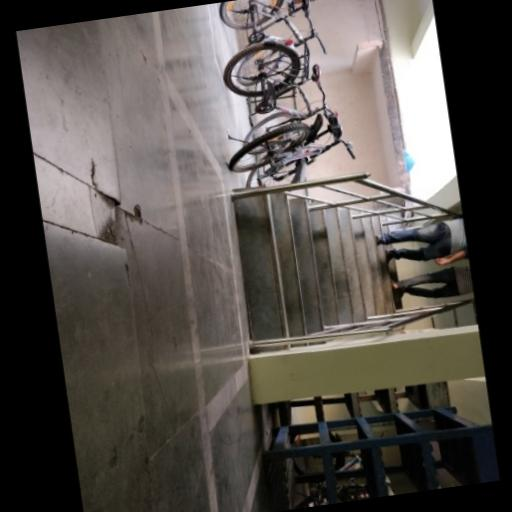stairs: (233, 193, 399, 340)
